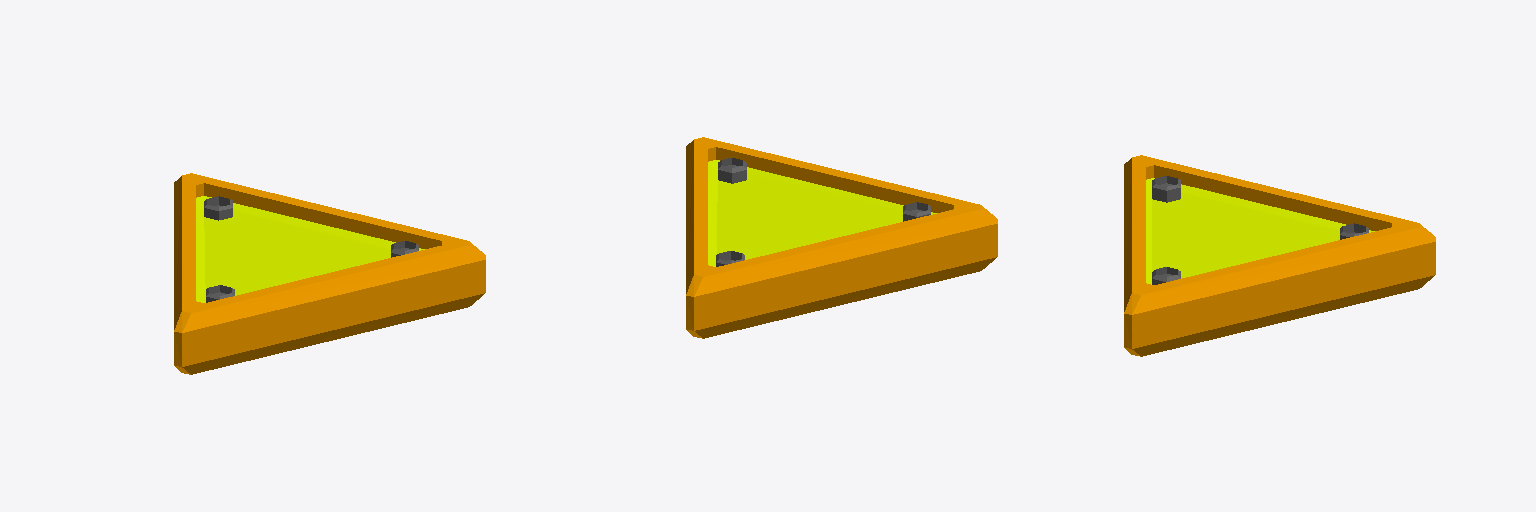
3 renders of one model, left to right at view 1: azimuth 30°, elevation 25°; view 2: azimuth 150°, elevation 25°; view 3: azimuth 270°, elevation 25°, orthographic.
Parts seen in each view (by area): view 1: pCylinder4; view 2: pCylinder4; view 3: pCylinder4.
Part boxes in pixels (left/top/right/bottom): pCylinder4: left=174, top=173, right=485, bottom=374; pCylinder4: left=686, top=137, right=997, bottom=338; pCylinder4: left=1124, top=155, right=1435, bottom=356.
Size of the model in its own units: 1.69 by 0.3189 by 1.46.
1 materials, 1 textured.